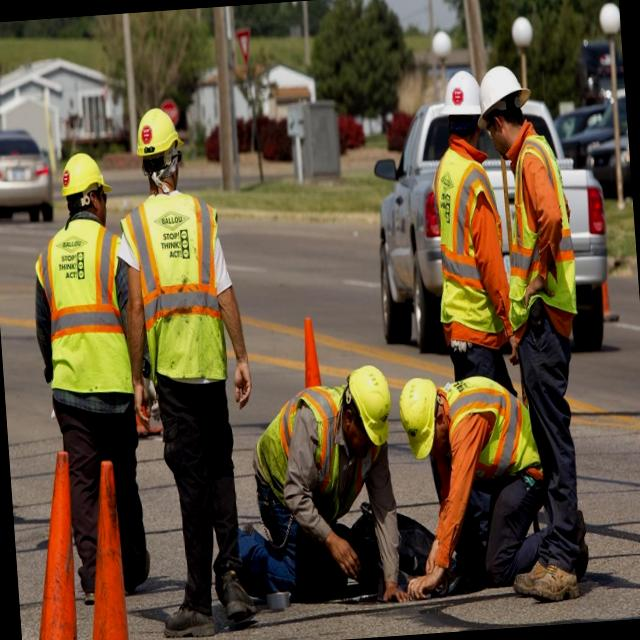helmet: (344, 362, 399, 464), (400, 375, 442, 464), (132, 100, 185, 160), (58, 148, 108, 198), (478, 60, 526, 112), (443, 68, 482, 122)
no-vest: (256, 398, 352, 518)
vest: (130, 186, 236, 400), (29, 212, 134, 410), (428, 143, 498, 350), (507, 136, 578, 327), (438, 368, 538, 474)
